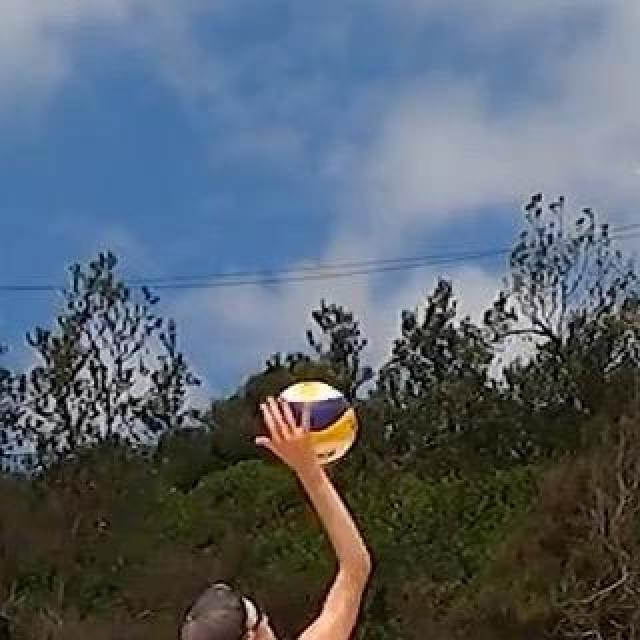volleyball: (274, 380, 360, 464)
